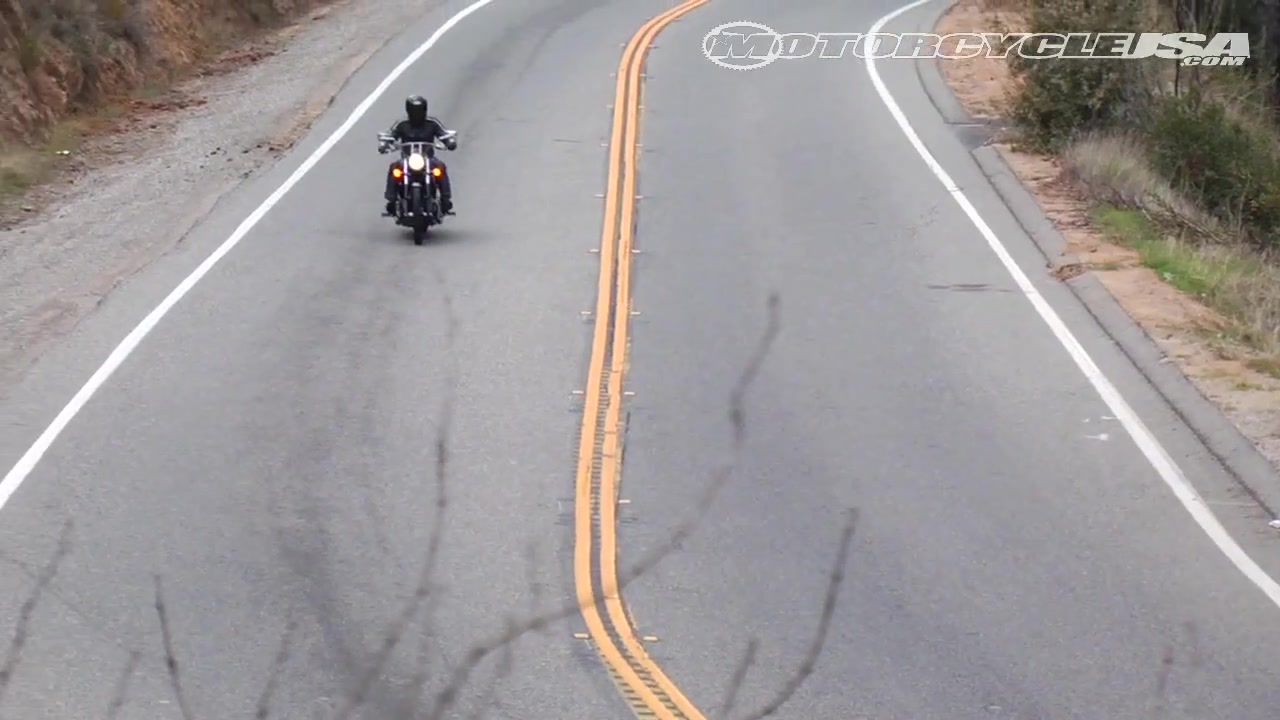motorbike: (375, 129, 463, 247)
